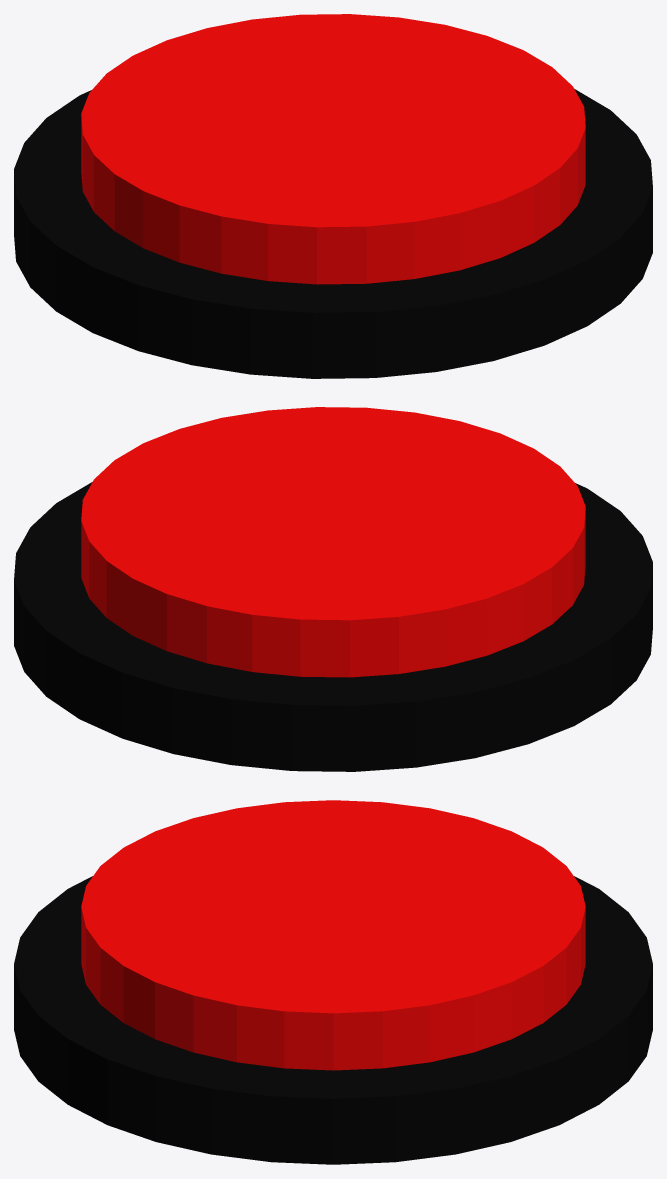
3 views of the same model, one above another, from view 1: azimuth 30°, elevation 25°; view 2: azimuth 150°, elevation 25°; view 3: azimuth 270°, elevation 25° (orthographic).
Parts seen in each view (by area): view 1: Цилиндр; view 2: Цилиндр; view 3: Цилиндр.
Part boxes in pixels (box(x1,y1,x2,y2)): Цилиндр: box(14, 14, 652, 378); Цилиндр: box(14, 407, 652, 771); Цилиндр: box(14, 800, 652, 1164).
Bounding box in the file's own units: 1 × 0.2124 × 1.
